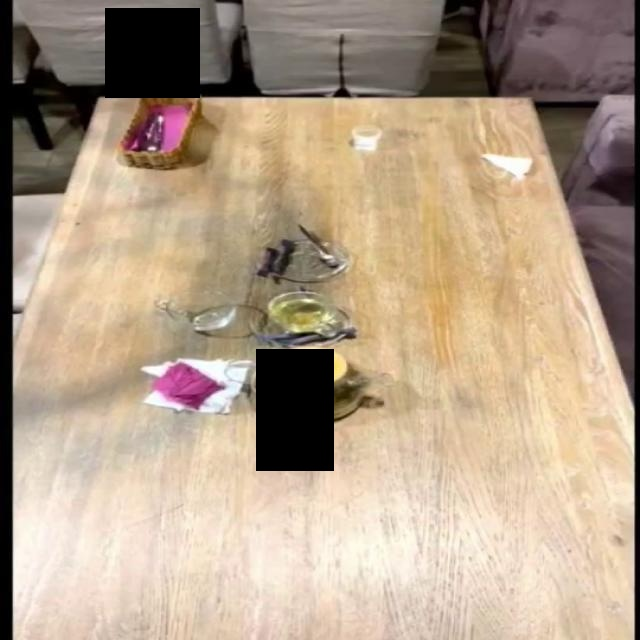tea: (248, 345, 372, 424)
